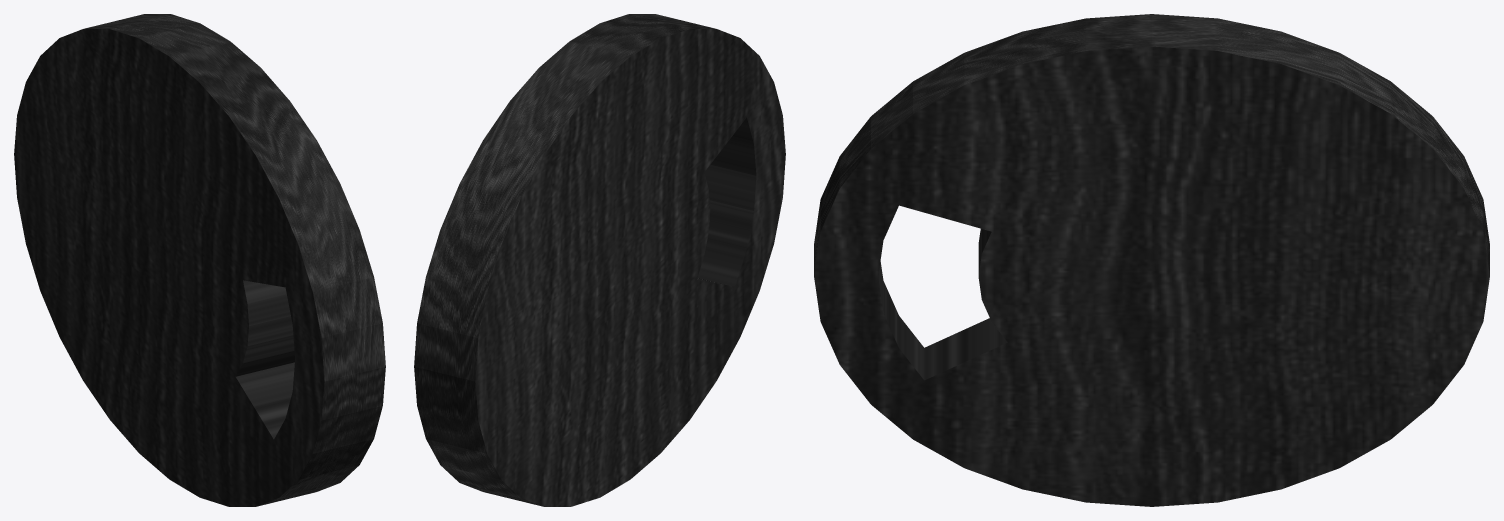
File: AlaIzquierda.obj
3 views of the same model, side by side, from view 1: azimuth 30°, elevation 25°; view 2: azimuth 150°, elevation 25°; view 3: azimuth 270°, elevation 25° (orthographic). The views are drawn at different scales.
Visible parts, largest first — view 1: Cylinder.003; view 2: Cylinder.003; view 3: Cylinder.003.
Part boxes in pixels (x1,y1,x2,y2): Cylinder.003: (14, 14, 385, 506); Cylinder.003: (414, 14, 785, 506); Cylinder.003: (814, 14, 1489, 506).
Bounding box in the file's own units: 0.0782 × 0.5128 × 0.6823.
Materials: 1 (1 with a texture image).
